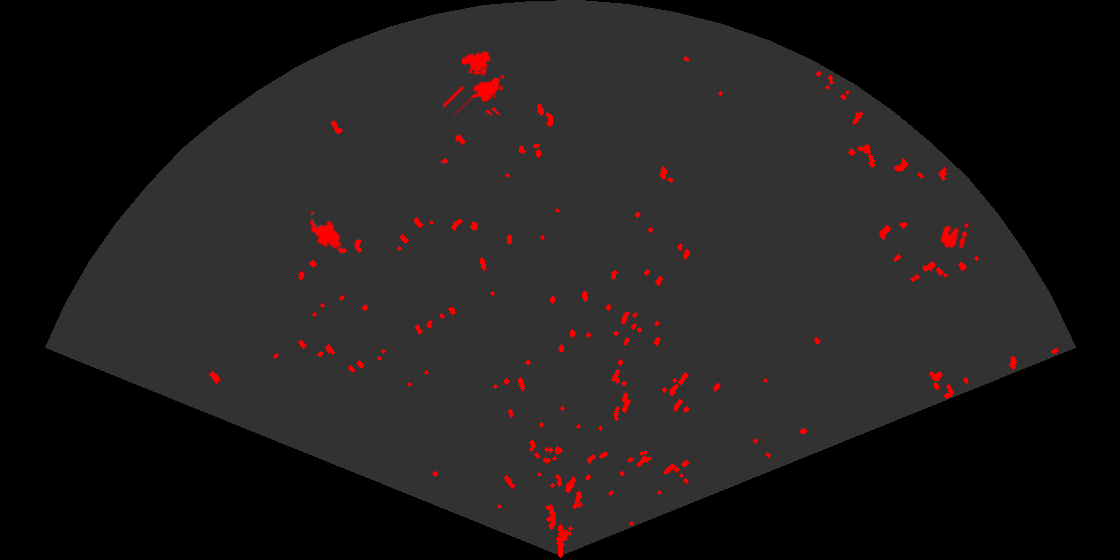AUV: (308, 209, 343, 251)
ball: (939, 224, 969, 250)
cage: (443, 49, 506, 115)
